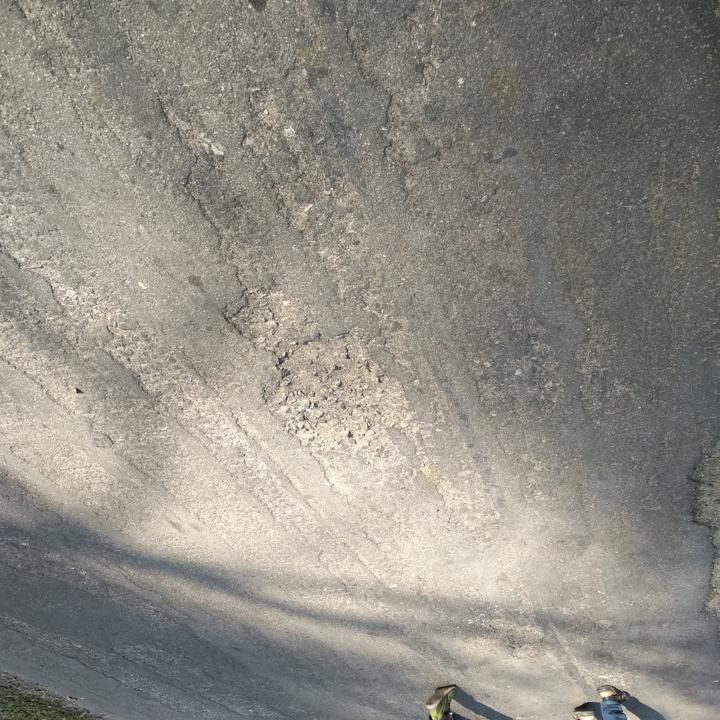pothole: (263, 335, 418, 450), (224, 289, 296, 346)
